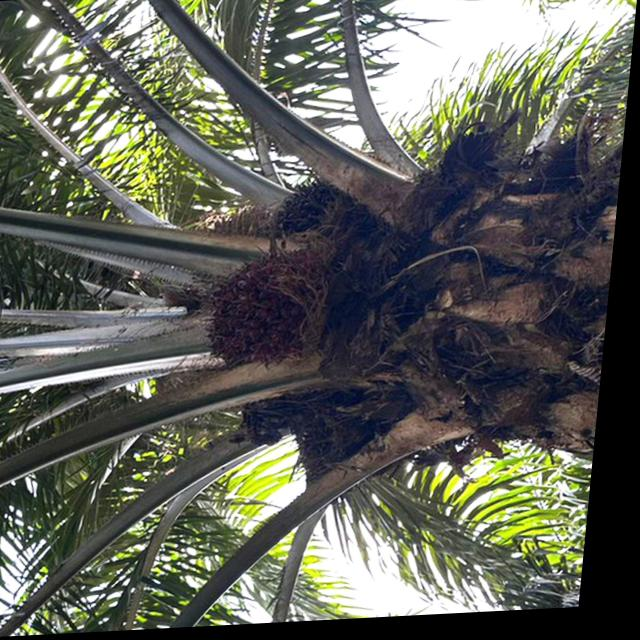ripe: (207, 258, 320, 386), (271, 181, 349, 246)
